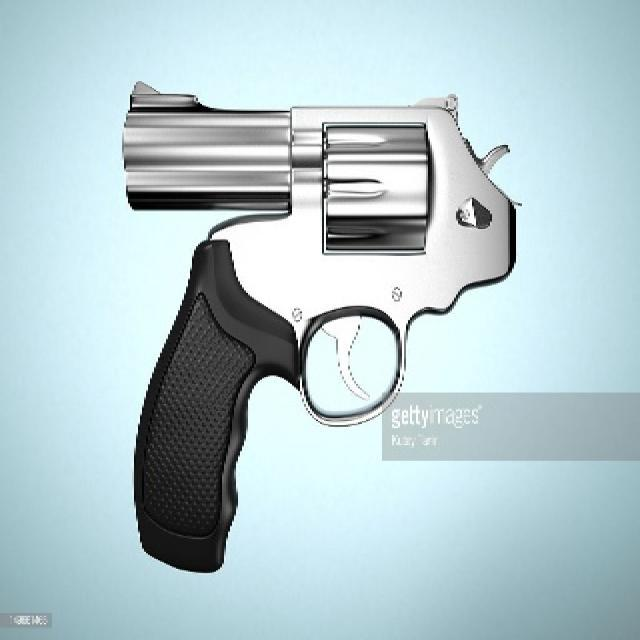weapon: (104, 68, 522, 572)
